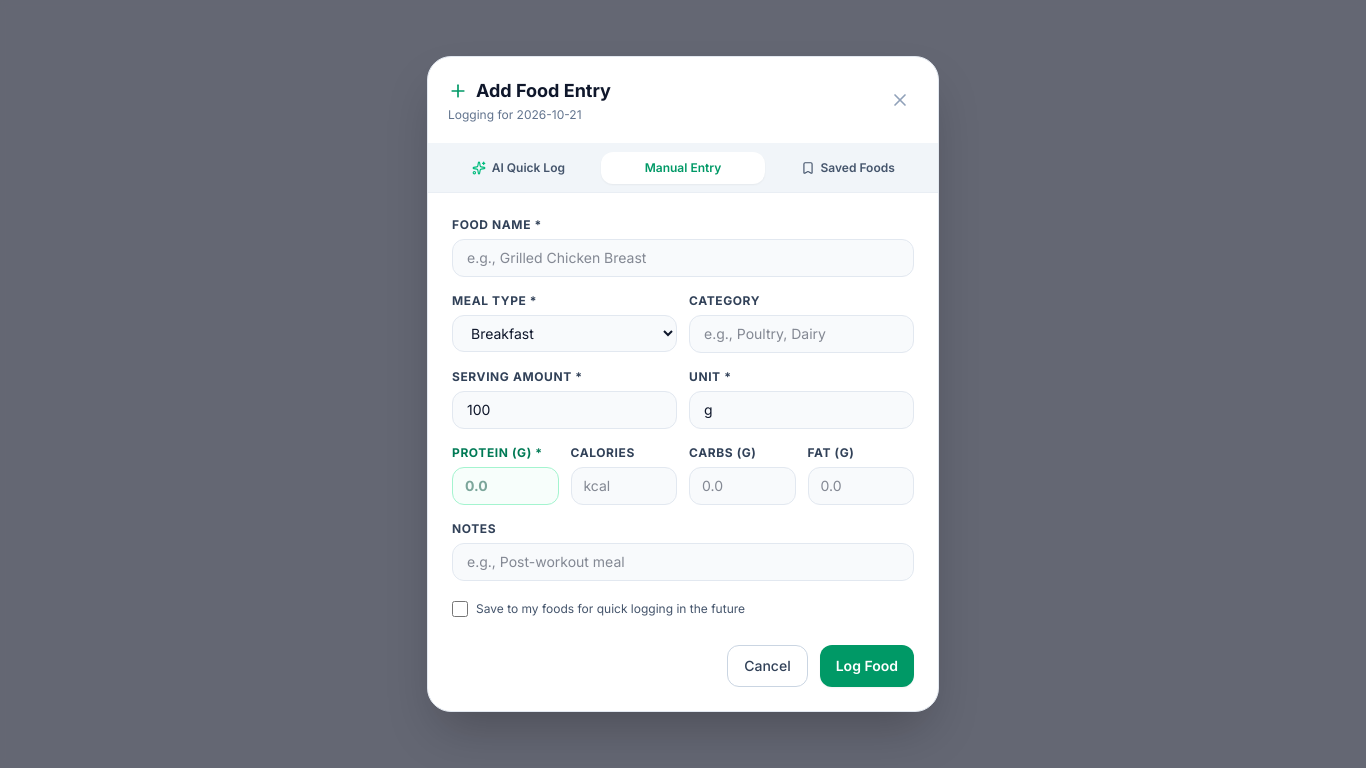
Test: Food Log Page & Components › validates manual food entry in AddFoodModal and blocks non-positive quantities
The width and height of the screenshot is (1366, 768).
Check: the heading "Add Food Entry" is shown, box x1=448 y1=77 x2=611 y2=105
// Leave name empty and submit
Click the button "Log Food" at (867, 666), box x1=820 y1=645 x2=914 y2=687
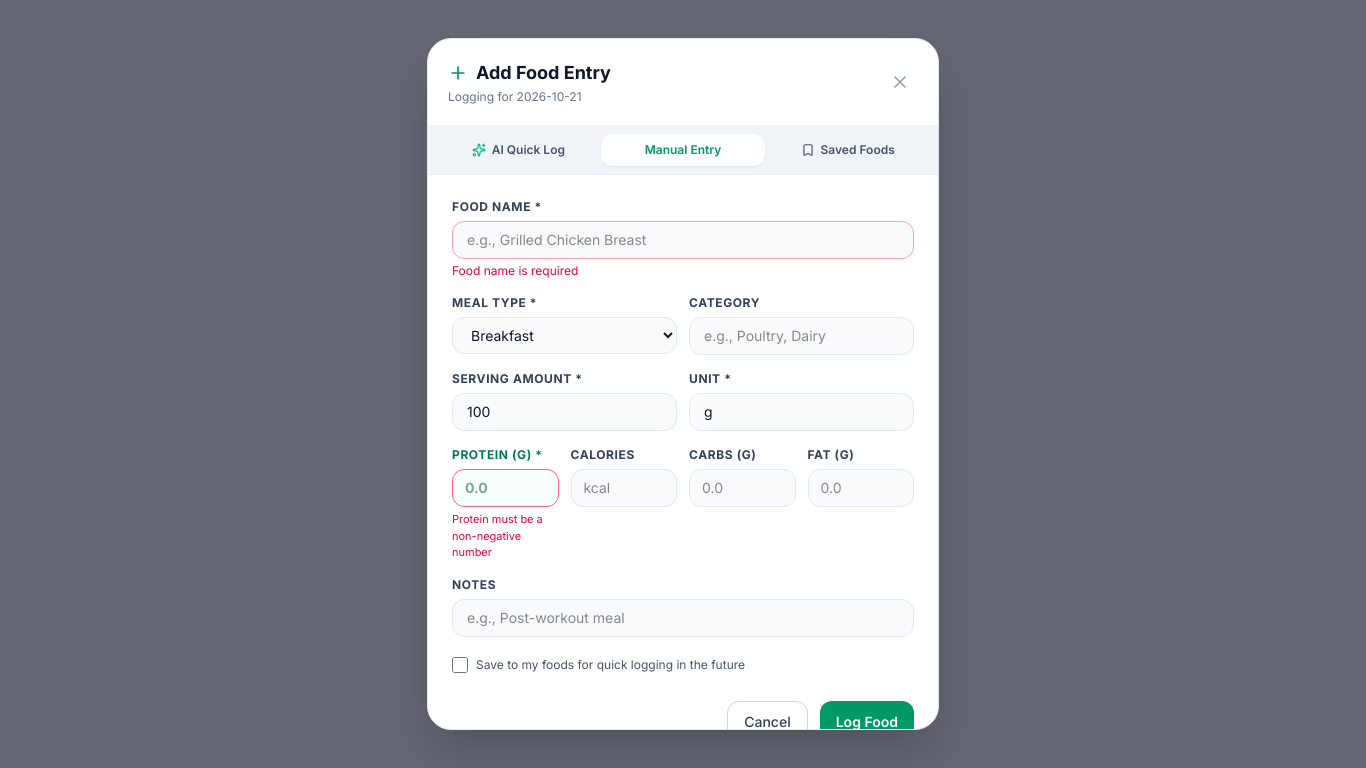
Check: the text "Food name is required" is shown, box x1=452 y1=263 x2=578 y2=278
